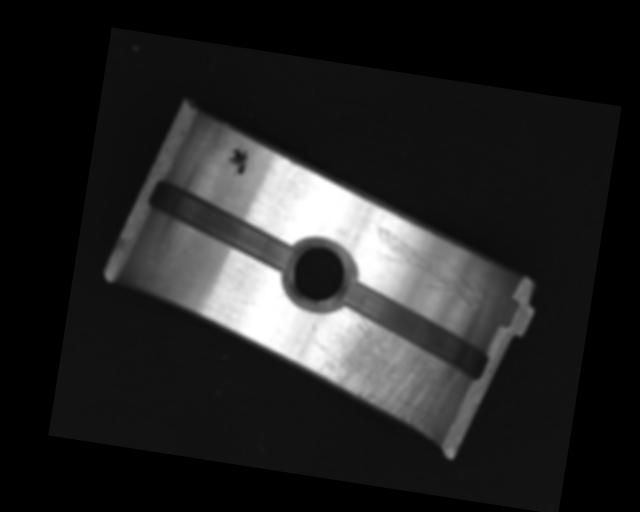blot: (222, 144, 252, 179)
gap: (331, 278, 497, 383), (142, 176, 301, 270)
hole: (282, 235, 354, 309)
nick: (365, 226, 487, 309)
scratch: (301, 298, 465, 442)
